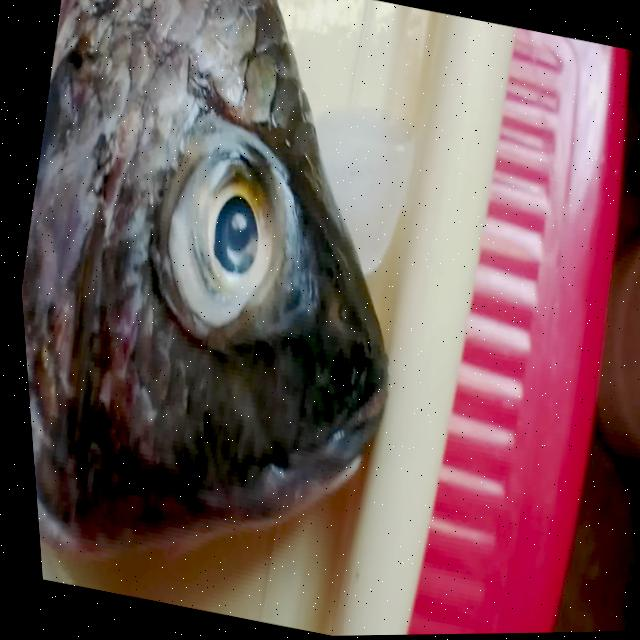Fresh: (132, 107, 325, 366)
